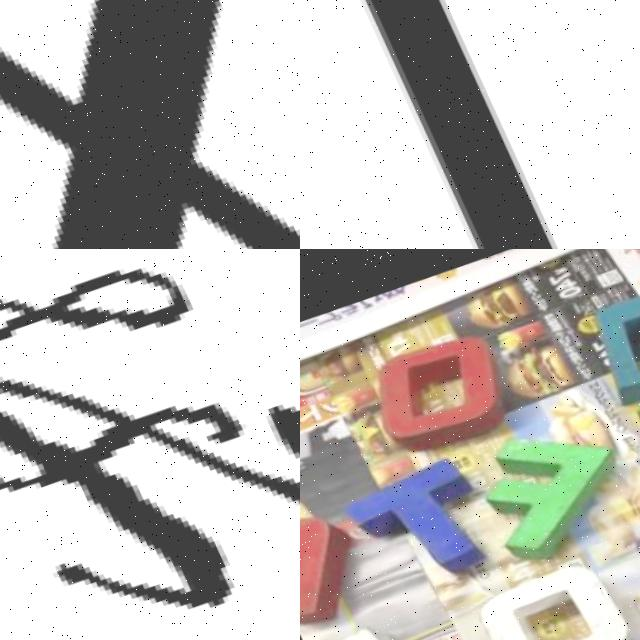A: (0, 249, 300, 640)
F: (451, 407, 629, 563)
L: (300, 0, 640, 249)
M: (579, 271, 640, 398)
O: (352, 323, 522, 461)
Q: (455, 552, 634, 640)
T: (331, 450, 500, 596)
X: (0, 0, 300, 249)
